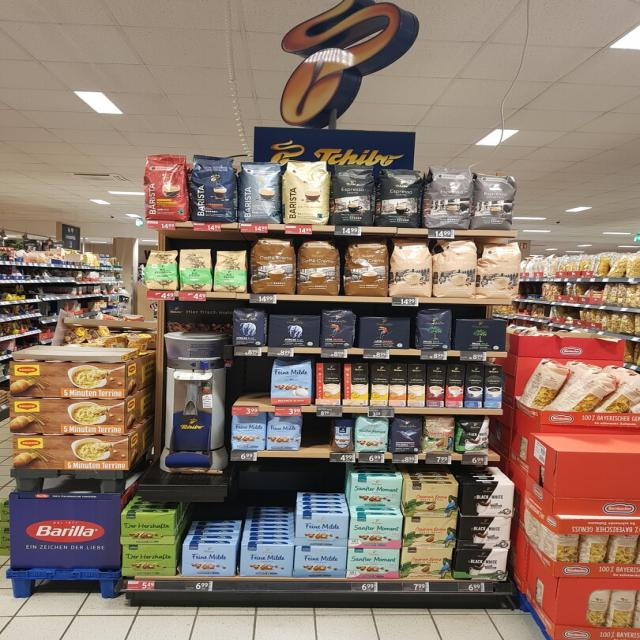AB Bohne: (230, 308, 267, 347)
AB Gemahlen: (267, 312, 320, 348)
Athiopien Bohne: (143, 248, 178, 290)
Athiopien Gemahlen: (212, 248, 249, 294), (179, 247, 213, 291)
BM Bohne: (412, 307, 455, 351)
BM Gemahlen: (453, 318, 509, 352)
BW Bohne: (454, 419, 492, 455)
BW Gemahlen: (452, 548, 512, 582), (460, 483, 516, 517), (457, 516, 513, 550)
Barista CB: (282, 159, 332, 225)
Barista CC: (237, 160, 285, 225)
Barista Espresso: (188, 155, 241, 222)
Barista Kolumbien: (142, 153, 188, 222)
C Fino Bohne: (388, 417, 424, 455)
CC Mild: (432, 239, 480, 299), (388, 238, 434, 298), (476, 239, 522, 299)
CC Vollmundig 36 Pads: (341, 238, 390, 296), (249, 237, 298, 294), (296, 238, 341, 296)
Colombia BB Bohne: (423, 416, 456, 454)
Colombia BB Gemahlen: (404, 482, 460, 518), (399, 547, 456, 579), (402, 517, 458, 548)
Empty Shelf: (181, 507, 239, 544), (240, 506, 295, 543), (233, 359, 269, 406), (301, 416, 334, 451)
Espresso Aromatisch: (422, 164, 475, 228), (471, 168, 519, 230)
Espresso Kraftig: (374, 166, 424, 228), (330, 162, 377, 227)
FM 36 Pads: (269, 359, 313, 406)
FM Bohne: (228, 415, 268, 451), (265, 415, 302, 451)
FM Gemahlen: (178, 543, 239, 577), (292, 512, 351, 547), (239, 543, 295, 579), (293, 545, 349, 579)
FM Instant: (330, 418, 356, 454)
Herzhatfe Mundig: (119, 511, 176, 545), (119, 545, 178, 577)
LG Bohne: (319, 308, 357, 350)
LG Gemahlen: (356, 315, 413, 350)
SM Bohne: (354, 416, 390, 454)
SM Gemahlen: (348, 514, 404, 549), (346, 548, 401, 580), (348, 476, 403, 508)
Simo CCMild: (343, 362, 369, 405)
Simo CCMild bigpack: (370, 362, 390, 407)
Simo CCVollmundig: (314, 362, 342, 406)
Simo CCVollmundig bigpack: (389, 363, 407, 407)
Simo Decaff: (407, 363, 426, 408)
Simo Es Brazil: (445, 364, 465, 408)
Simo Es Caramel: (426, 363, 446, 408)
Simo Es Kraft: (464, 365, 485, 408)
Simo Es Vanilla: (484, 364, 504, 408)
